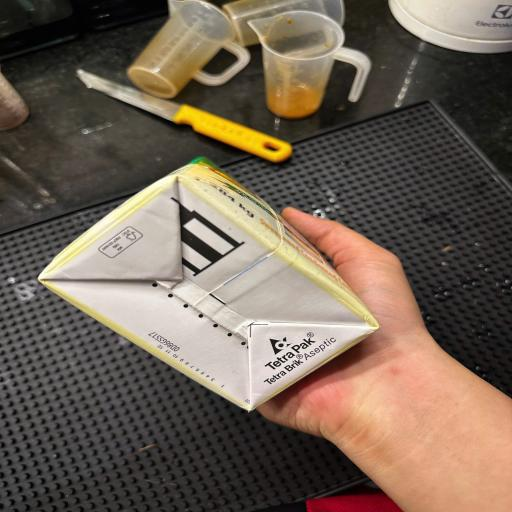sua_dac: (26, 129, 412, 427)
